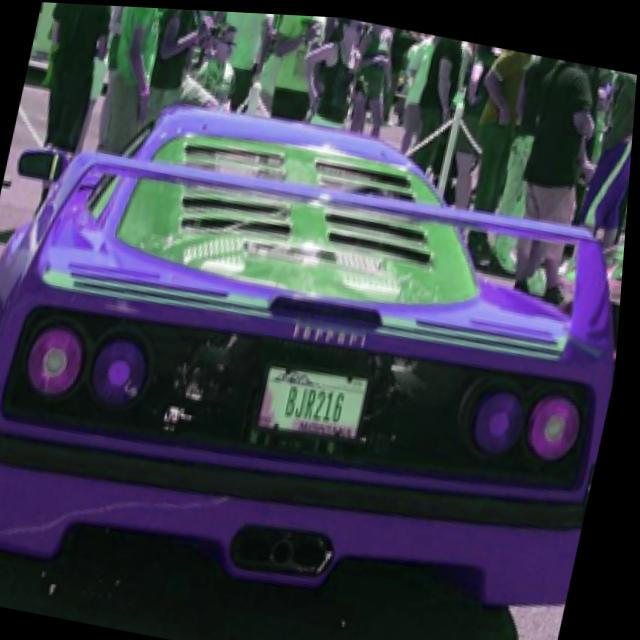license_plate: (261, 364, 375, 441)
